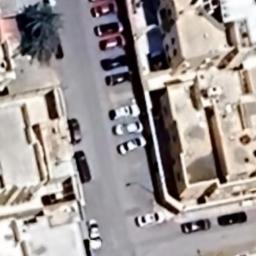SUV: (64, 116, 88, 148), (108, 104, 142, 122)
sedan: (80, 216, 106, 252), (133, 208, 169, 233), (112, 138, 150, 156), (180, 217, 212, 237), (112, 120, 146, 138), (90, 22, 124, 38), (88, 4, 119, 20)
unknown: (69, 150, 95, 186), (98, 52, 132, 75), (104, 68, 136, 90), (217, 208, 249, 230), (98, 34, 130, 52)
